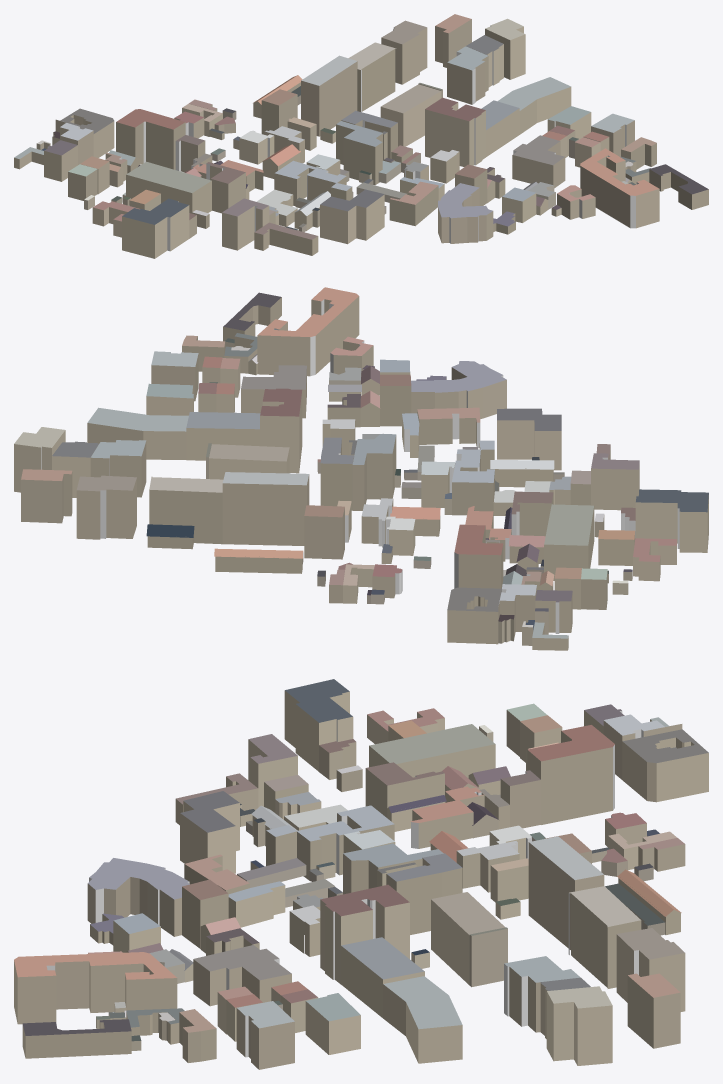
The picture shows the model from 3 angles, top to bottom: view 1: azimuth 30°, elevation 25°; view 2: azimuth 150°, elevation 25°; view 3: azimuth 270°, elevation 25°; orthographic projection. The views are drawn at different scales.
Visible parts, largest first — view 1: tuile; view 2: tuile; view 3: tuile.
Boxes of the visible parts, left/top/right/bottom form: tuile: left=14, top=14, right=708, bottom=258; tuile: left=14, top=287, right=708, bottom=650; tuile: left=14, top=679, right=708, bottom=1069.
Bounding box in the file's own units: 267 × 27.62 × 228.
